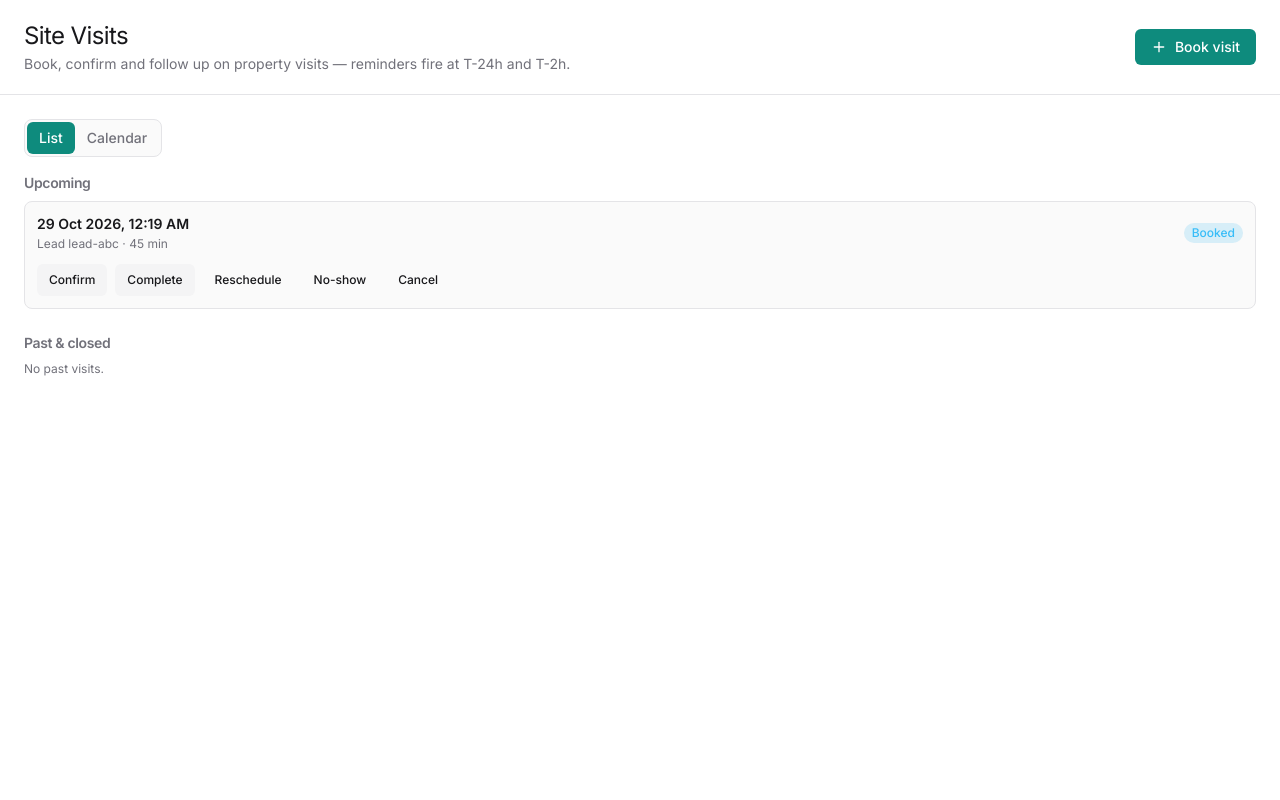
Test: SiteVisitsPage book modal › keeps submit disabled until lead, project and time are all chosen
This screenshot has width=1280, height=800.
Click the button "Book visit": click(1195, 47) [1135, 29, 1256, 65]
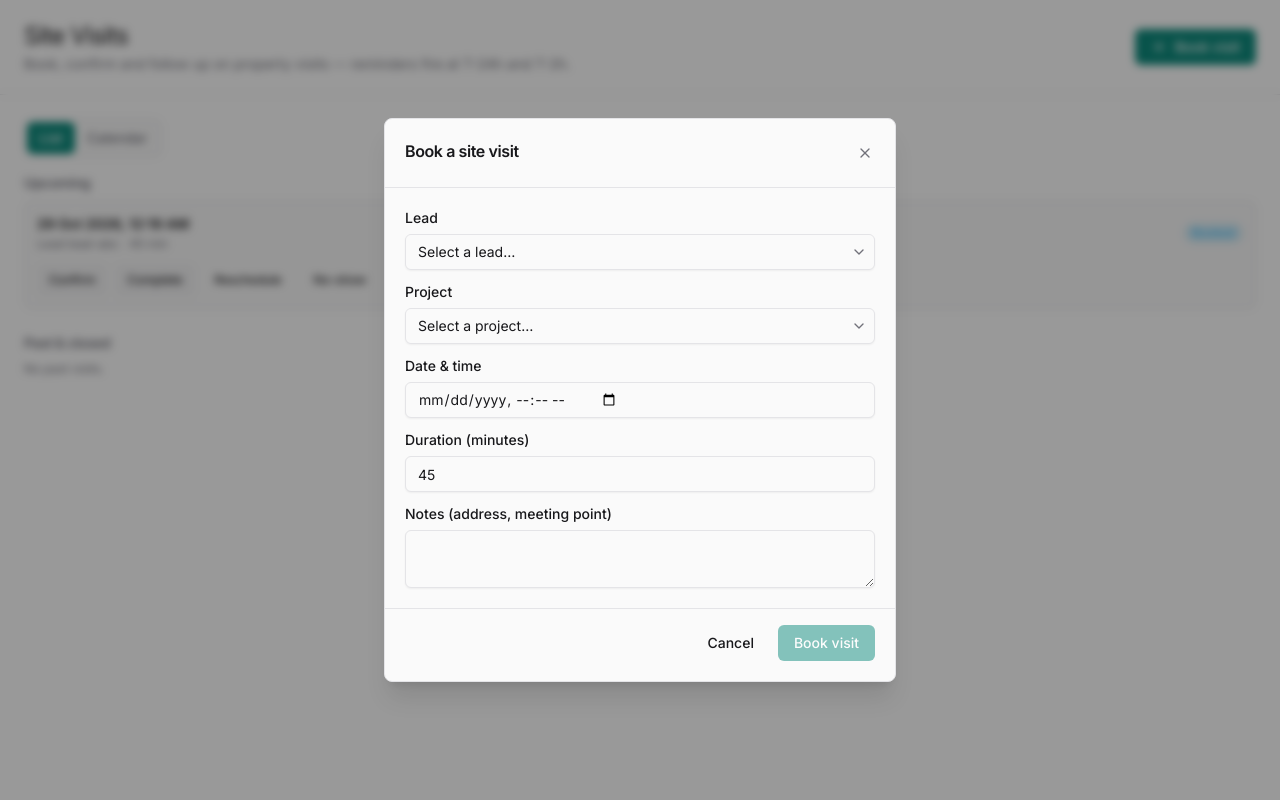
Result: the button "Book visit" is disabled at [778, 625, 875, 661]
Select "Asha Rao · +919800000001" in the dropdown labelled "Lead": (640, 252) [405, 234, 875, 270]
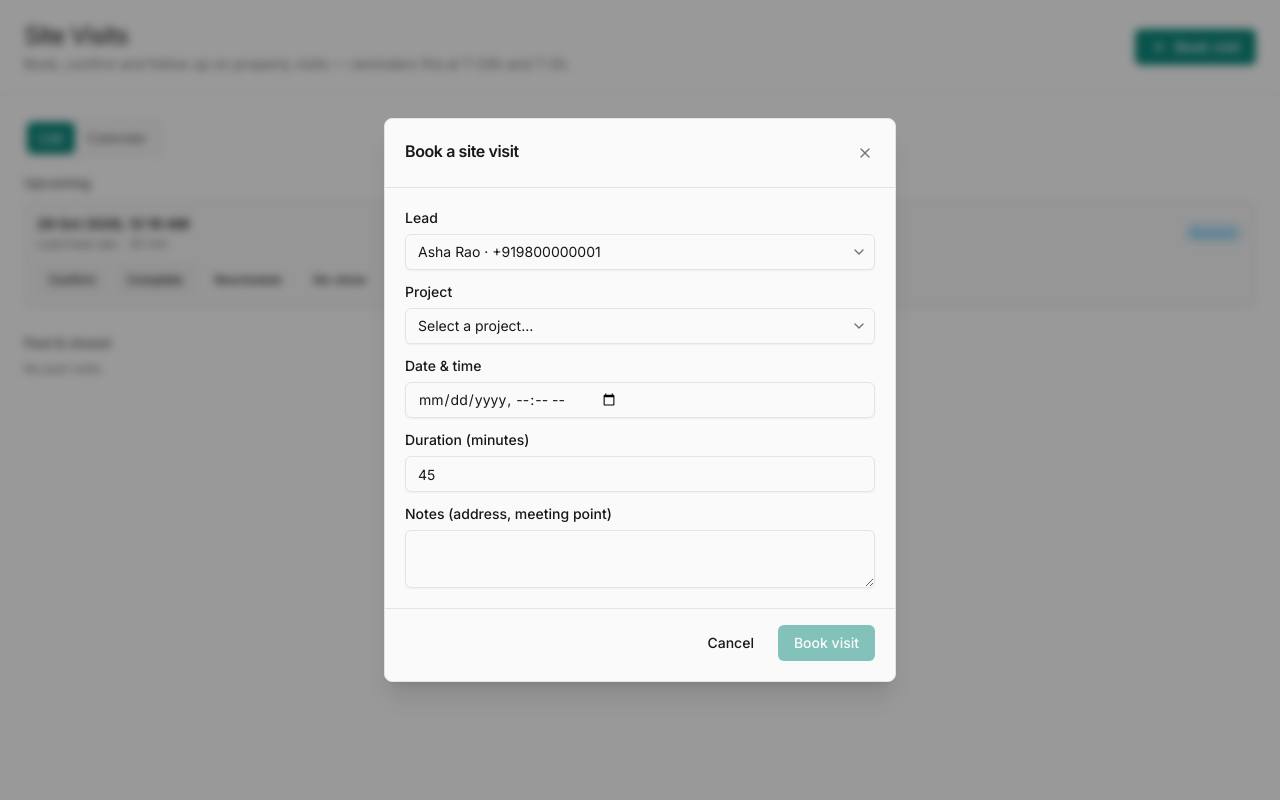
Result: the button "Book visit" is disabled at [778, 625, 875, 661]
Select "Prestige Lakeside · Whitefield" in the dropdown labelled "Project": (640, 326) [405, 308, 875, 344]
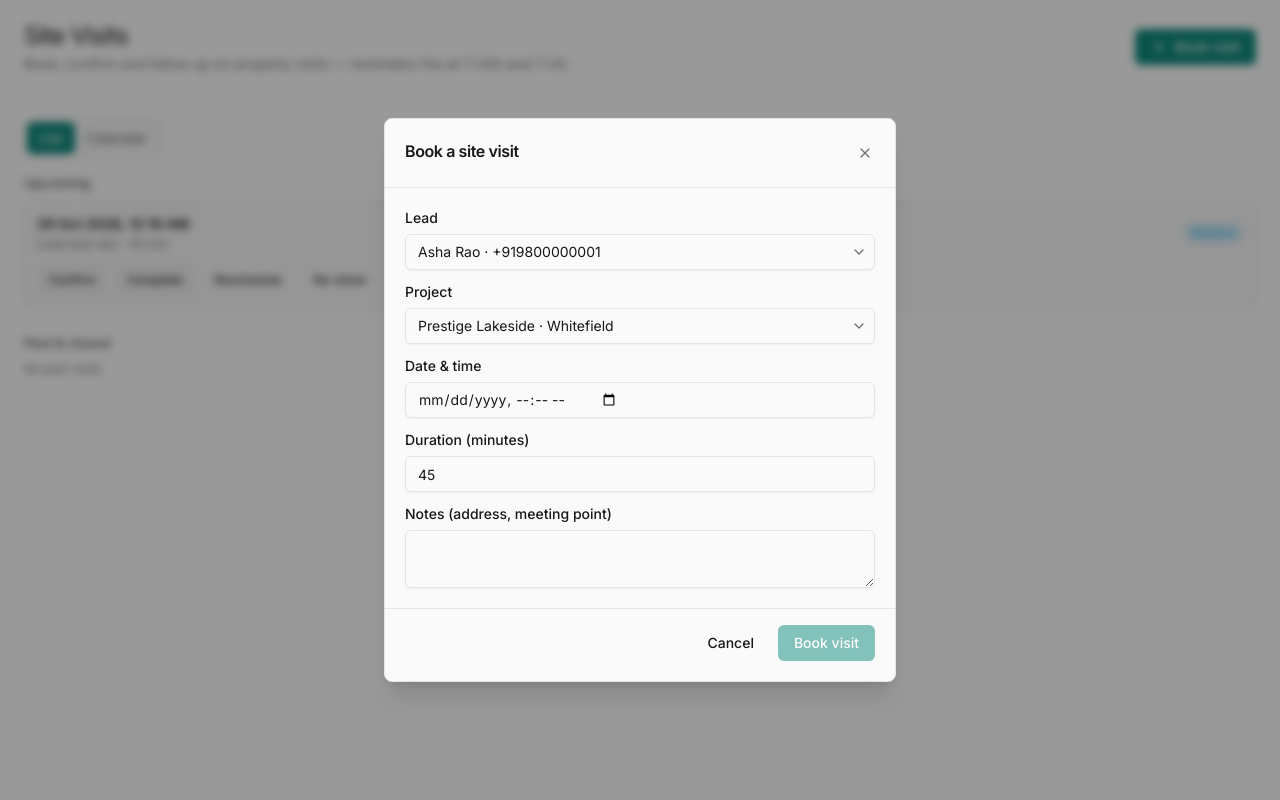
Result: the button "Book visit" is disabled at [778, 625, 875, 661]
In the field labelled "Date & time": (640, 400) [405, 382, 875, 418], type "2026-09-01T11:00"
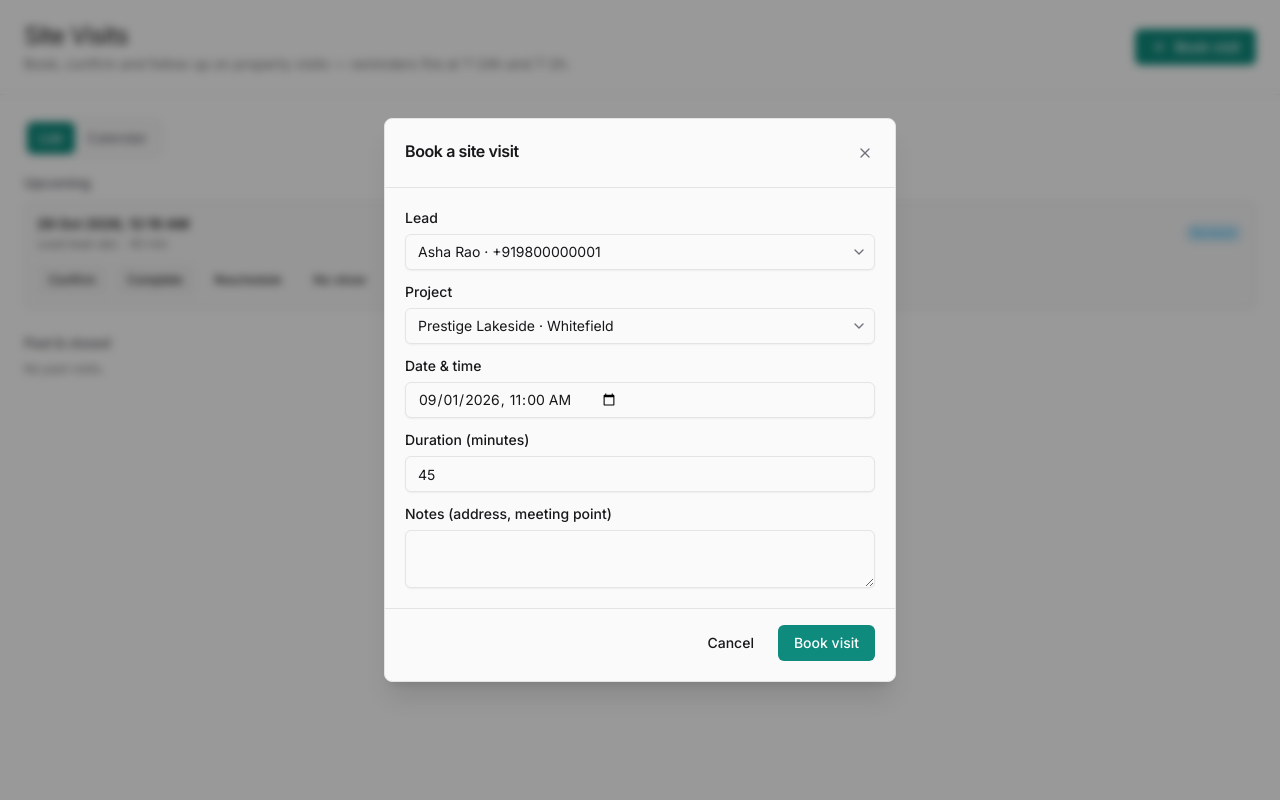
Result: the button "Book visit" is enabled at [778, 625, 875, 661]
